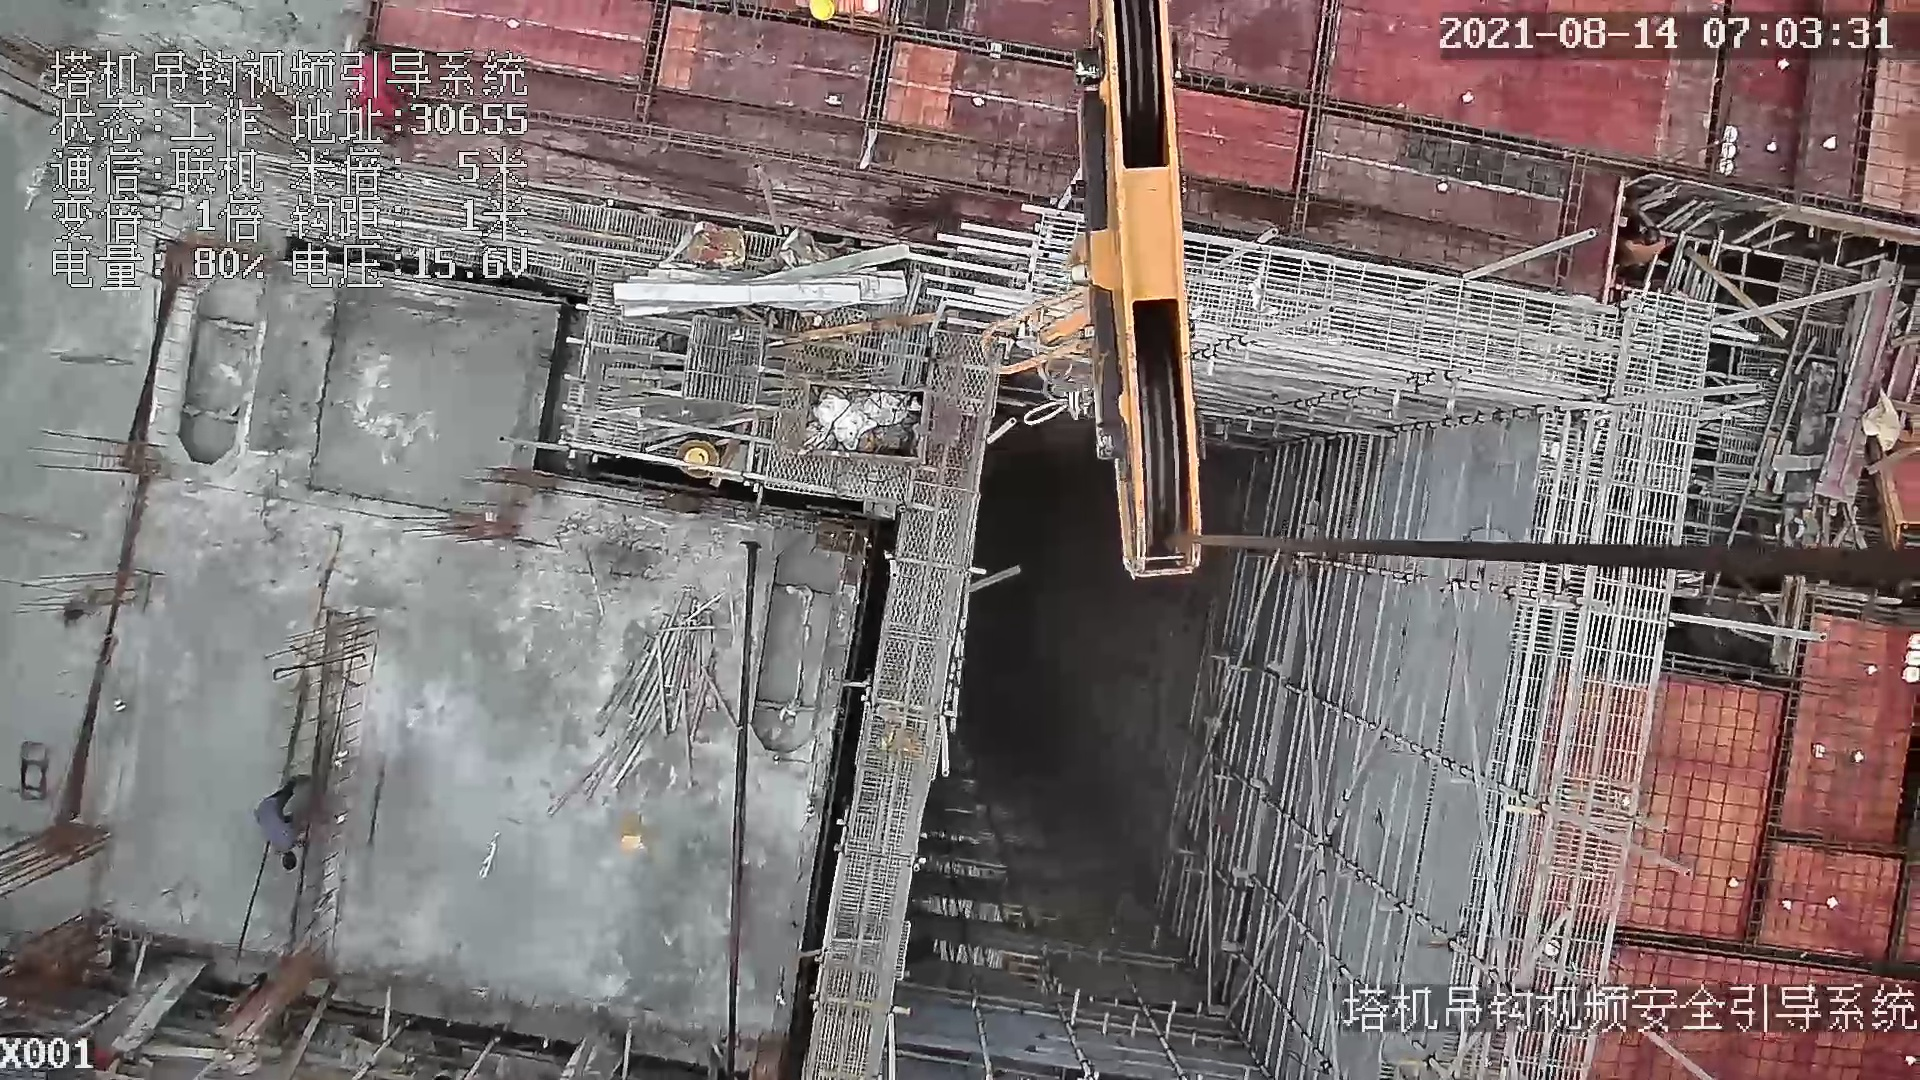helmet: (807, 1, 836, 26)
hook: (983, 6, 1218, 583)
person: (255, 778, 318, 873)
